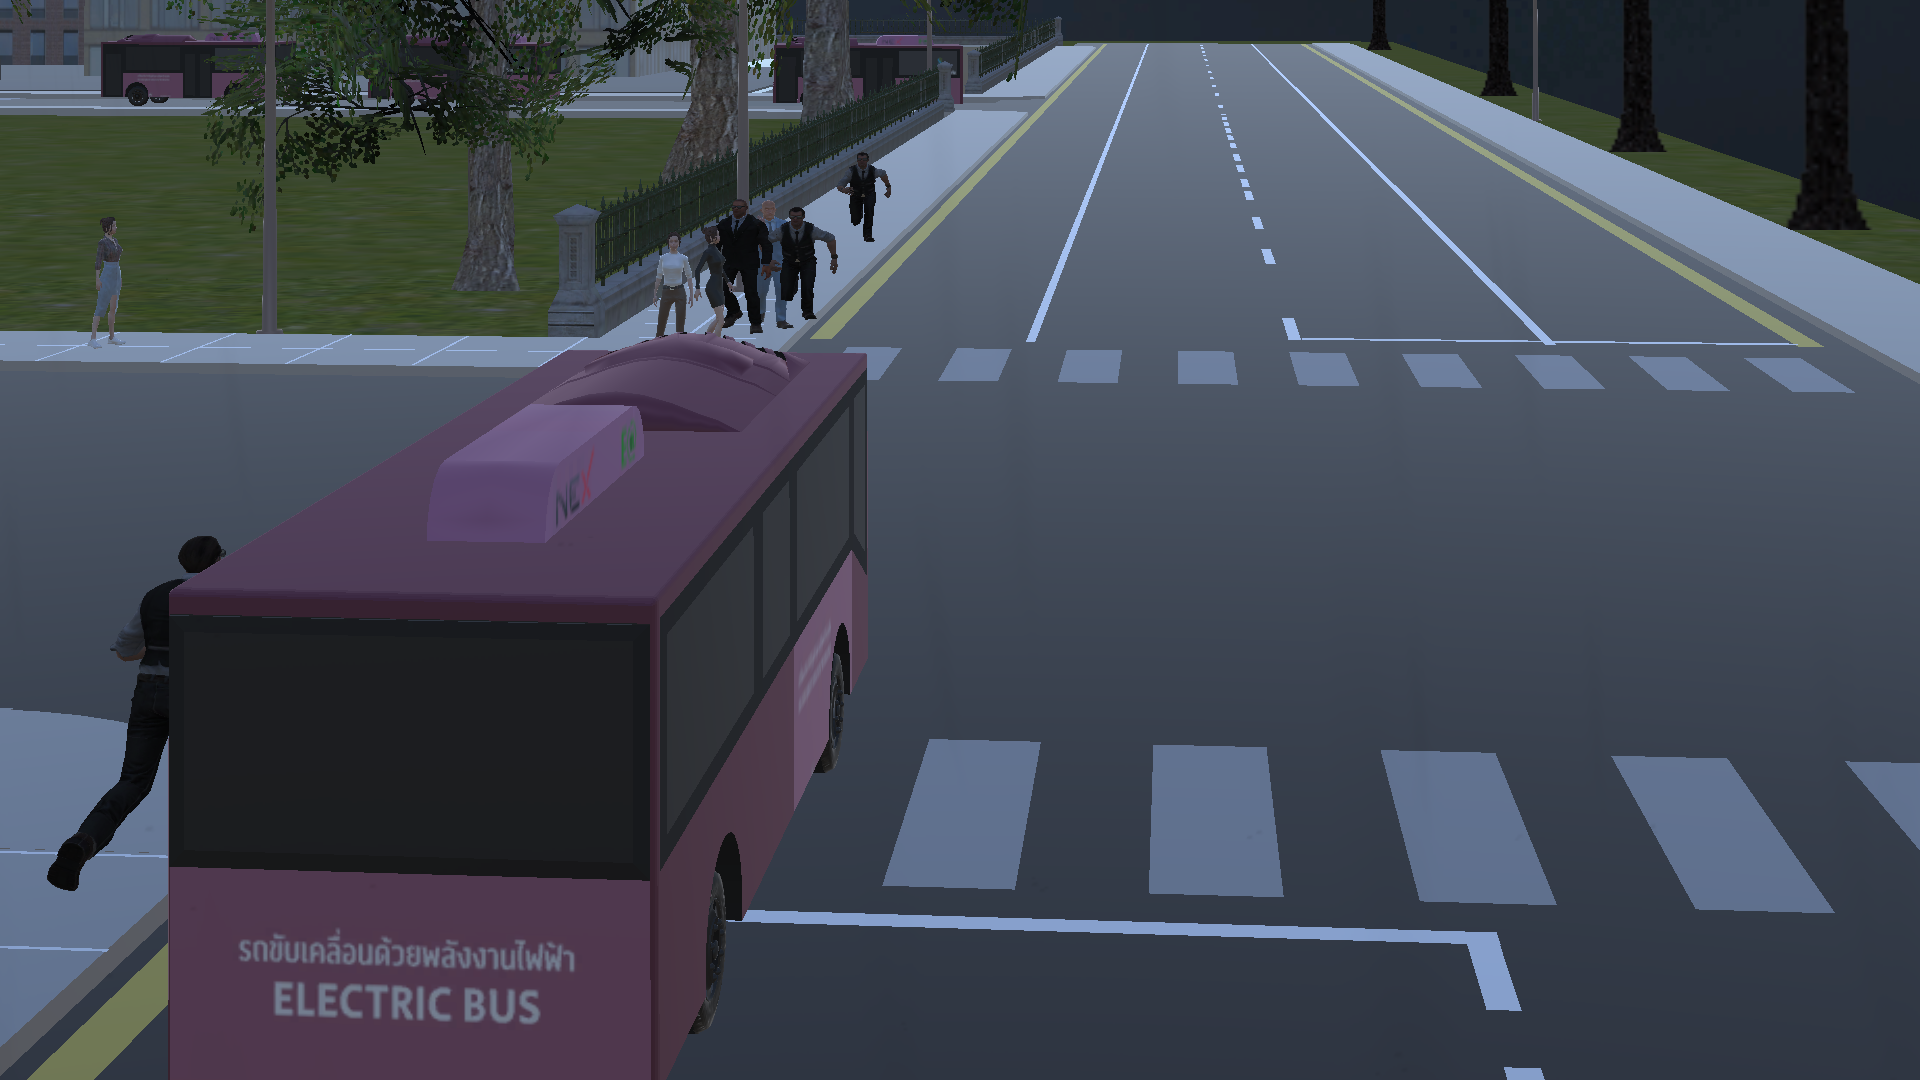pedestrian: (36, 524, 227, 879), (65, 202, 138, 363), (839, 146, 906, 264), (776, 206, 840, 325), (731, 189, 777, 336), (639, 236, 697, 336), (698, 218, 733, 340)
